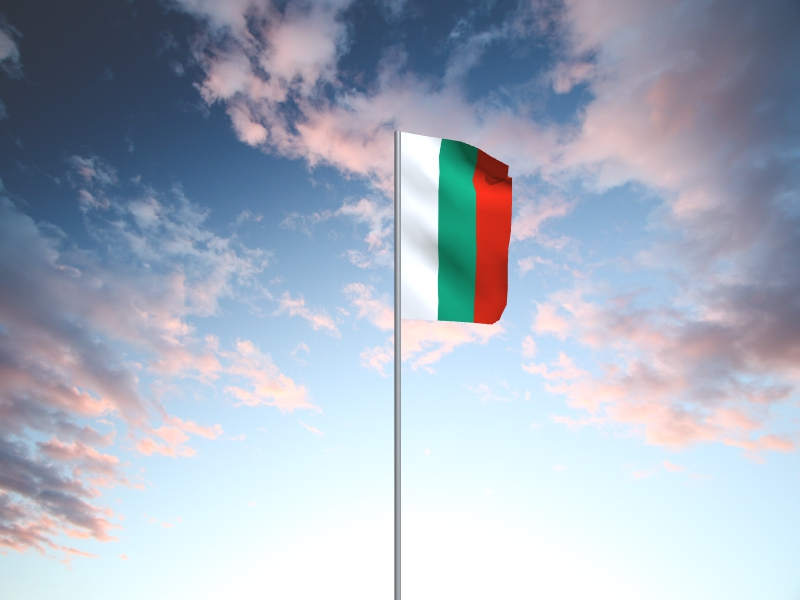bg: (401, 132, 515, 327)
